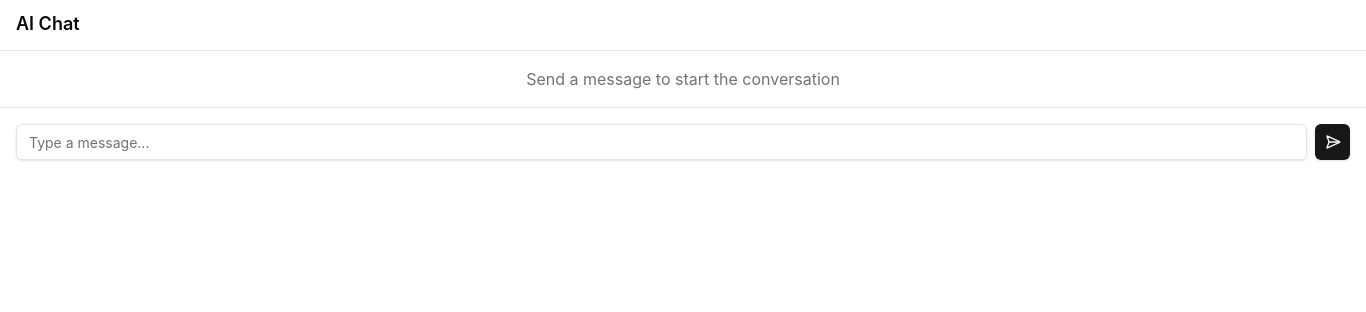
Test case: ChatPage › sends a message on Enter key
The width and height of the screenshot is (1366, 312).
Type "Test message" into the field named "Message input".
click(662, 142); type("Test message")  # box [16, 124, 1307, 160]
Then press Enter
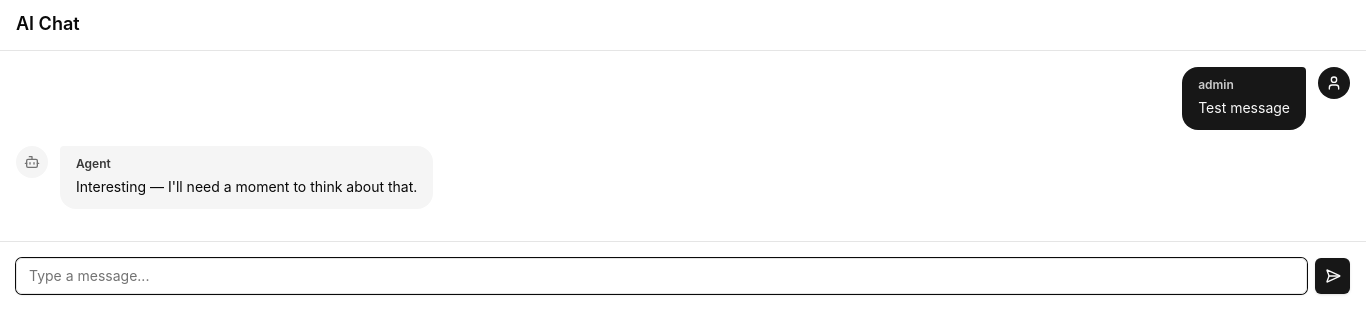
Now the text "Test message" is shown, box [1198, 97, 1290, 120]
